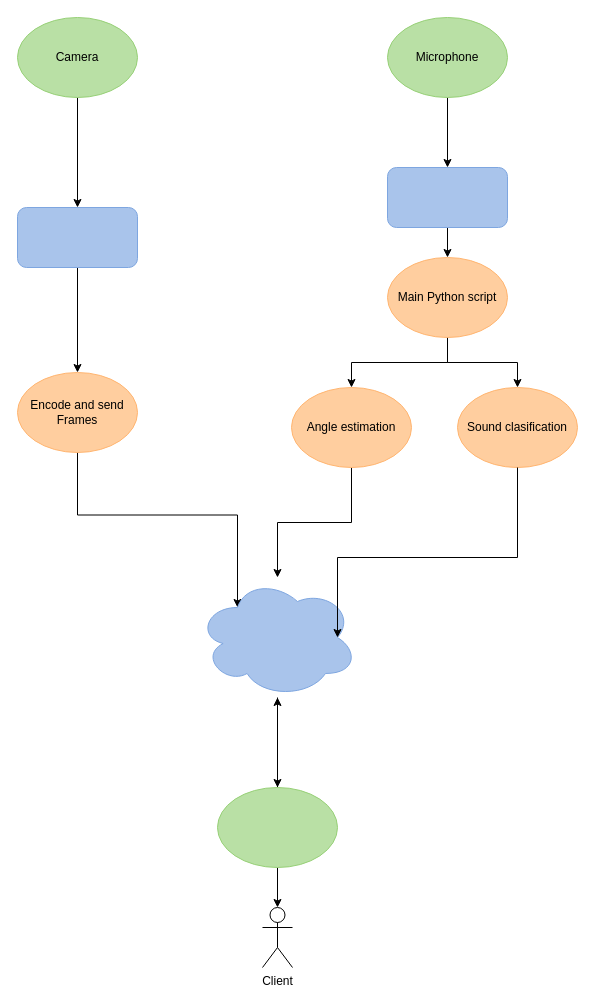
Some shapes in this 595 by 1006 pixel diagram are drawn without their labels. Each missing label, with the centre of its shape:
"GUI" goes at pixel 277 827.
"Raspberry pi" goes at pixel 77 237.
"Stm 32" goes at pixel 447 197.
"WebServer" goes at pixel 277 637.
